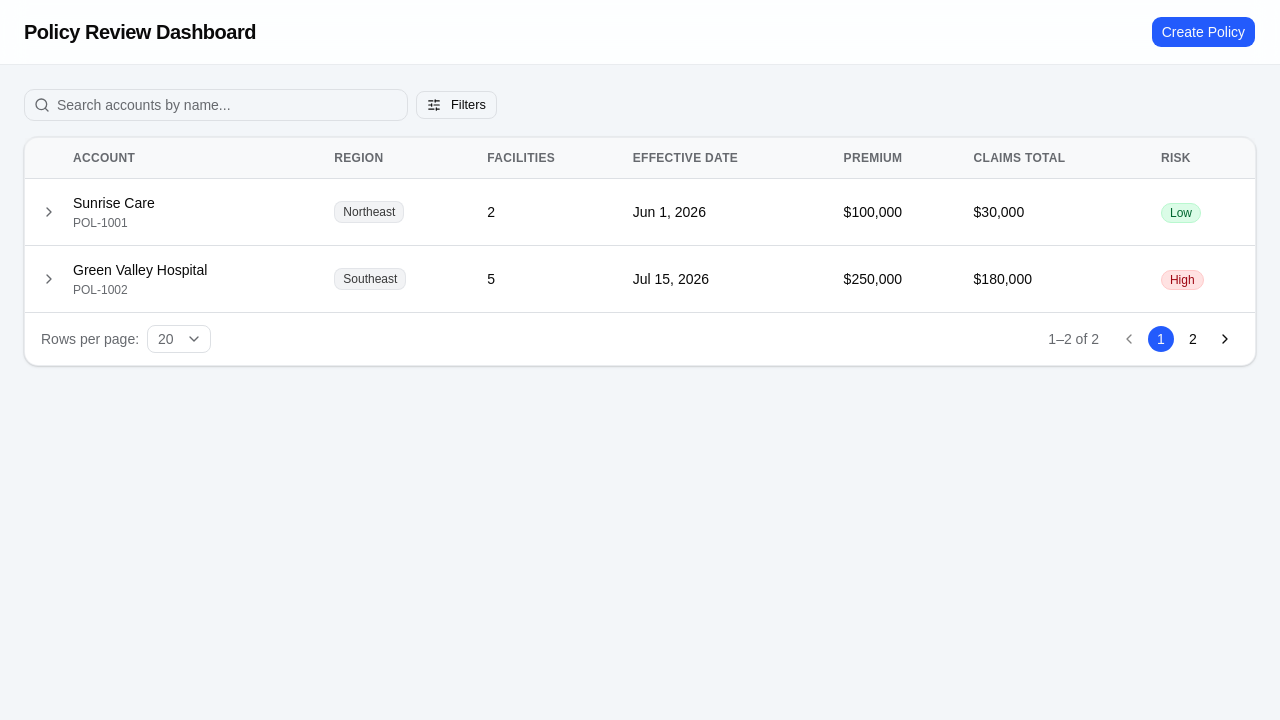
Test case: DashboardPage integration › opening filter modal, selecting a region, and applying shows a filter chip
This screenshot has width=1280, height=720.
Expected: the text "Sunrise Care" is shown, [73,195,155,211]
Step 1. Click the button with aria-label "open filters" → (456, 105), box [416,91,497,119]
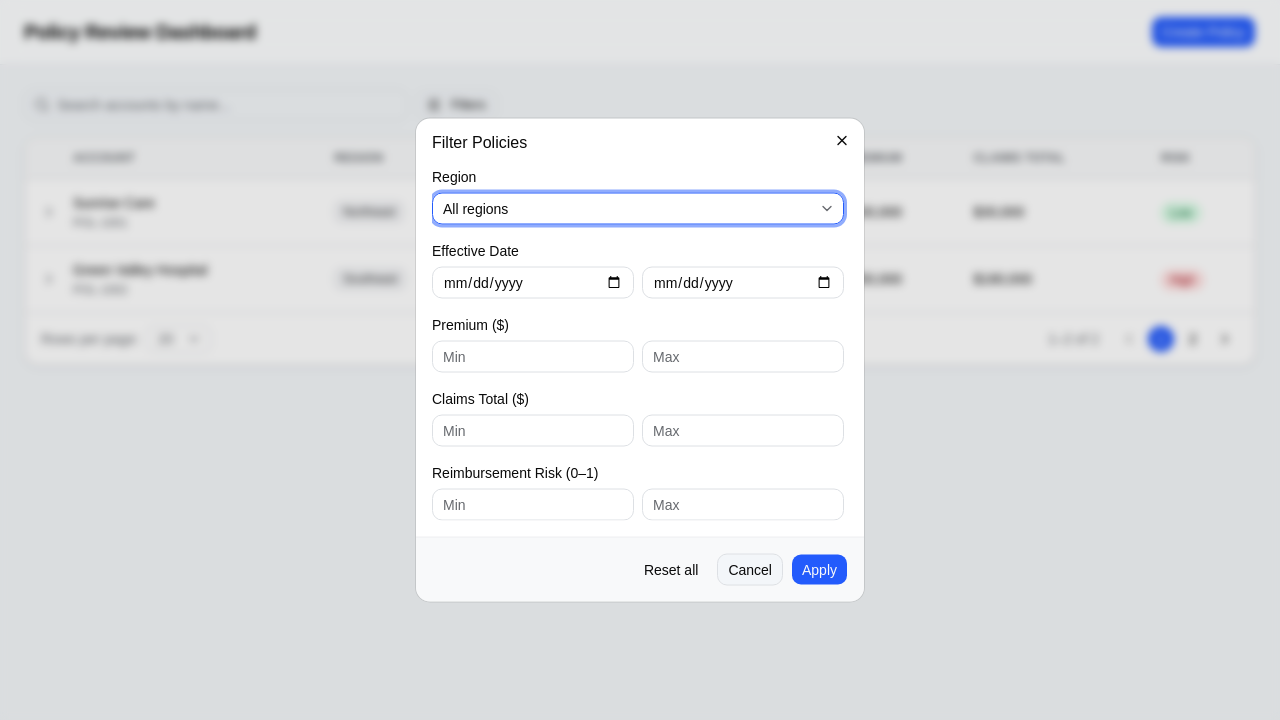
Step 2. Click the dropdown → (476, 208), box [432,192,844,224]
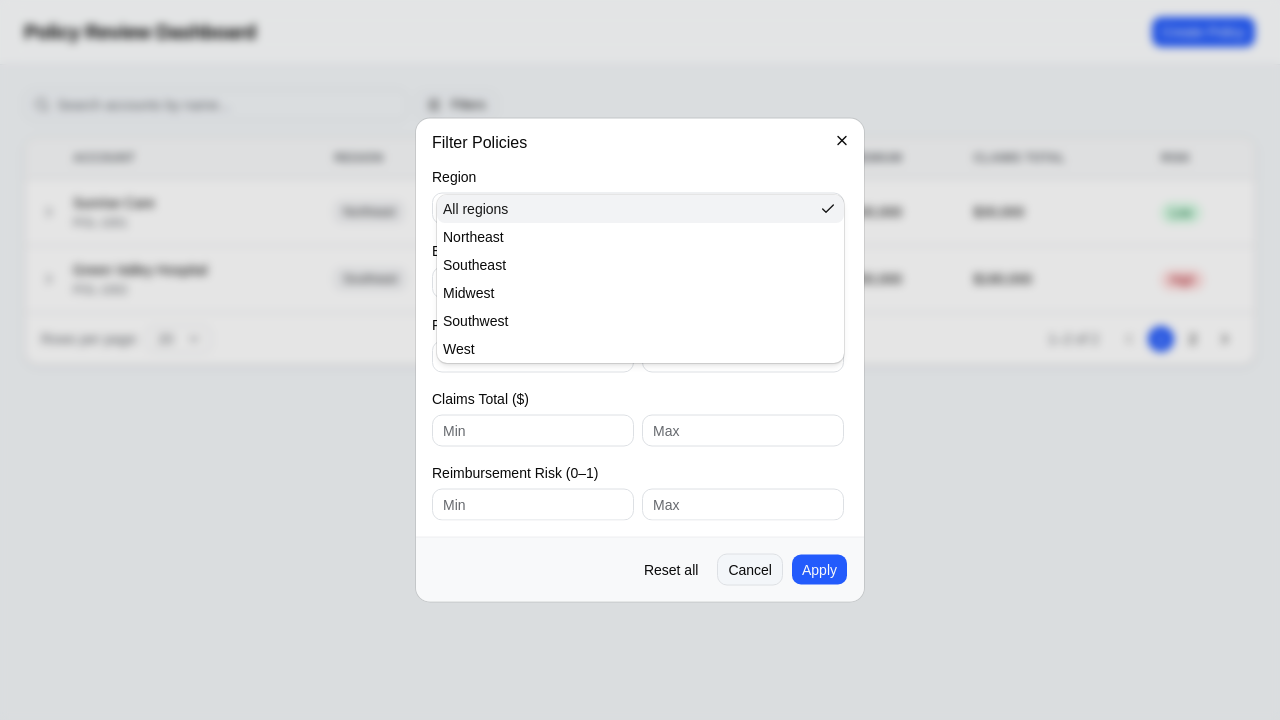
Step 3. Click the option "Northeast" → (473, 236), box [443,228,504,244]
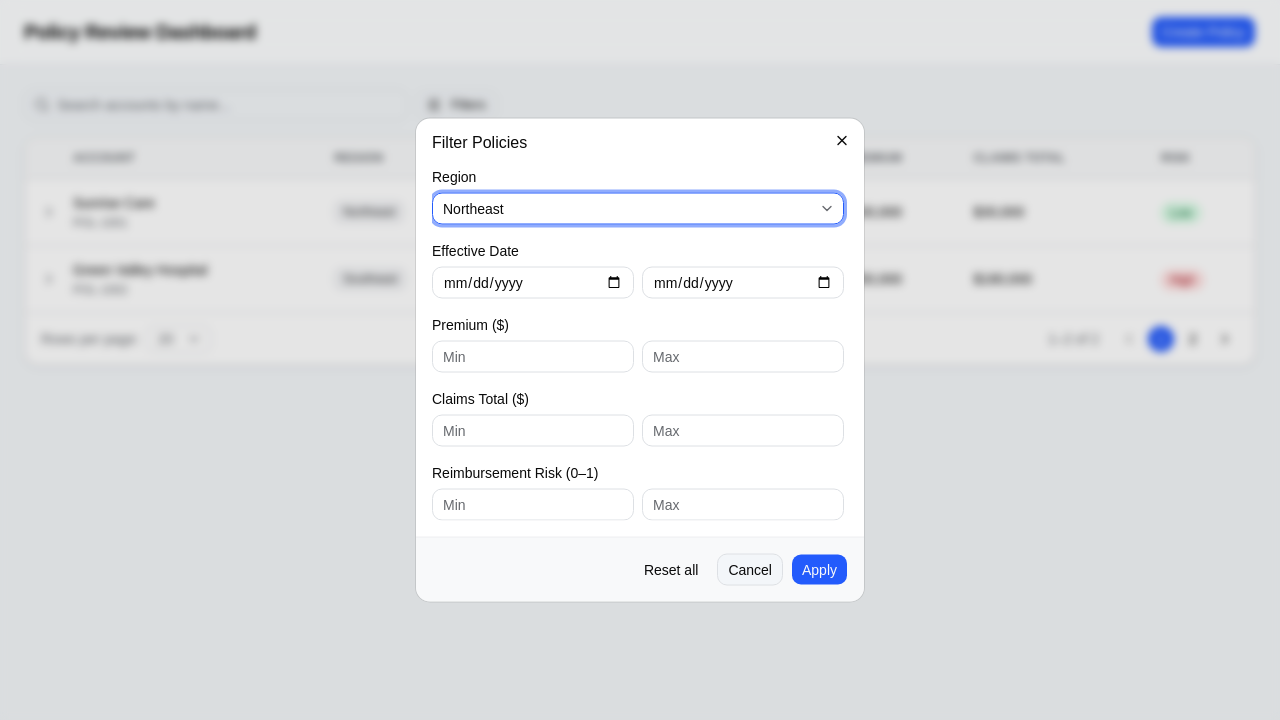
Step 4. Click the button "Apply" → (820, 570), box [791,554,848,586]
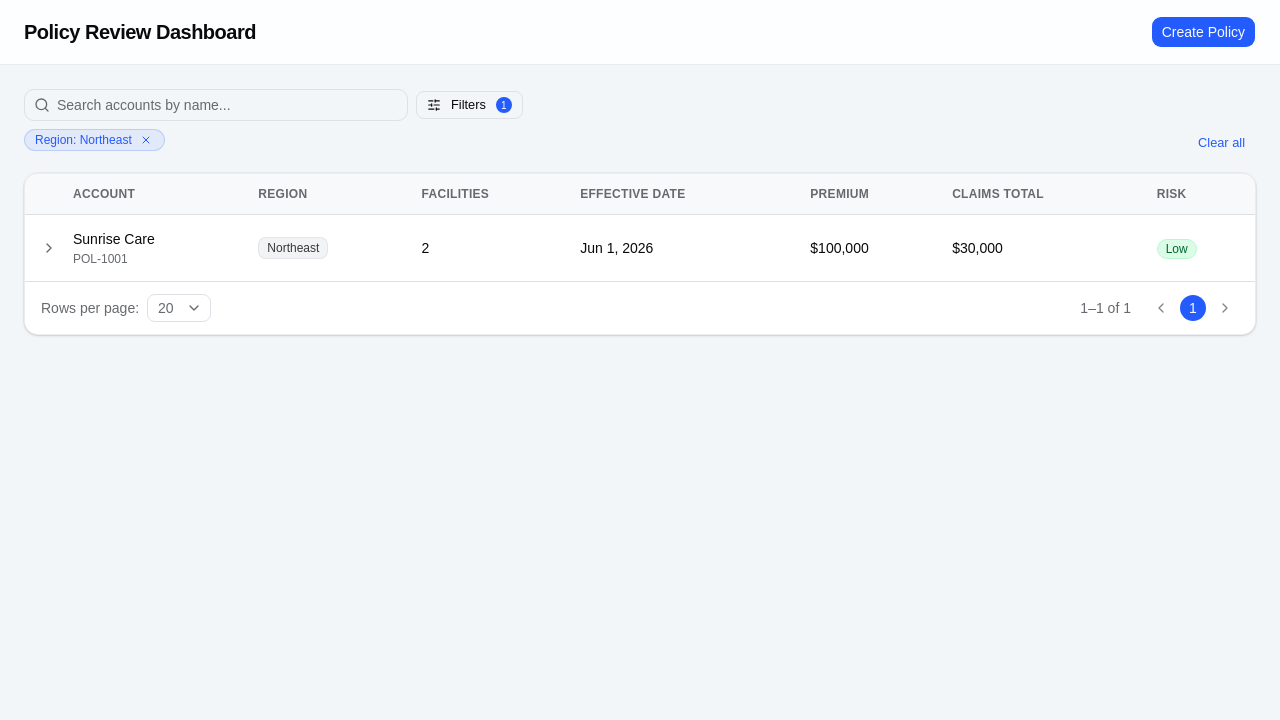
Expected: the list item "Region: Northeast" is shown, [24,129,165,151]
